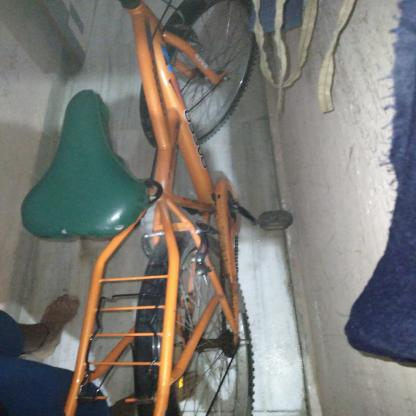bicycle: (19, 0, 347, 416)
